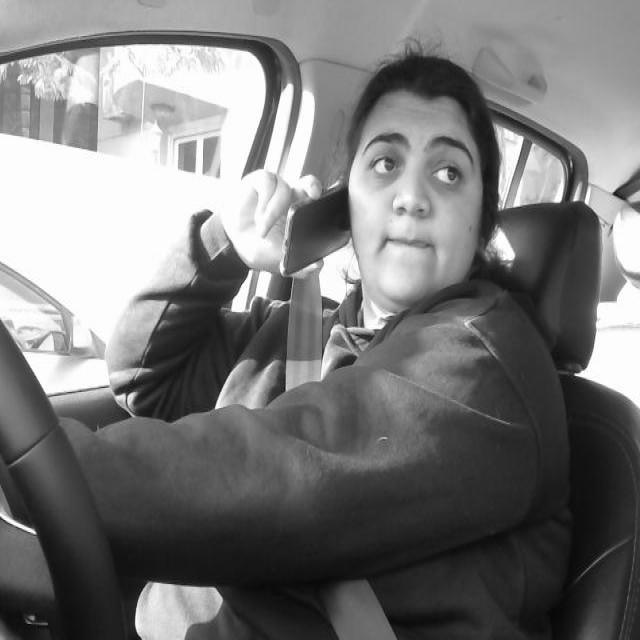mobile use: (274, 168, 354, 292)
